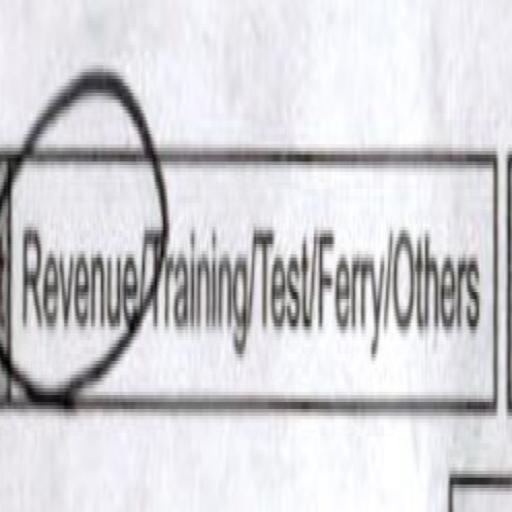check: (12, 49, 140, 426)
